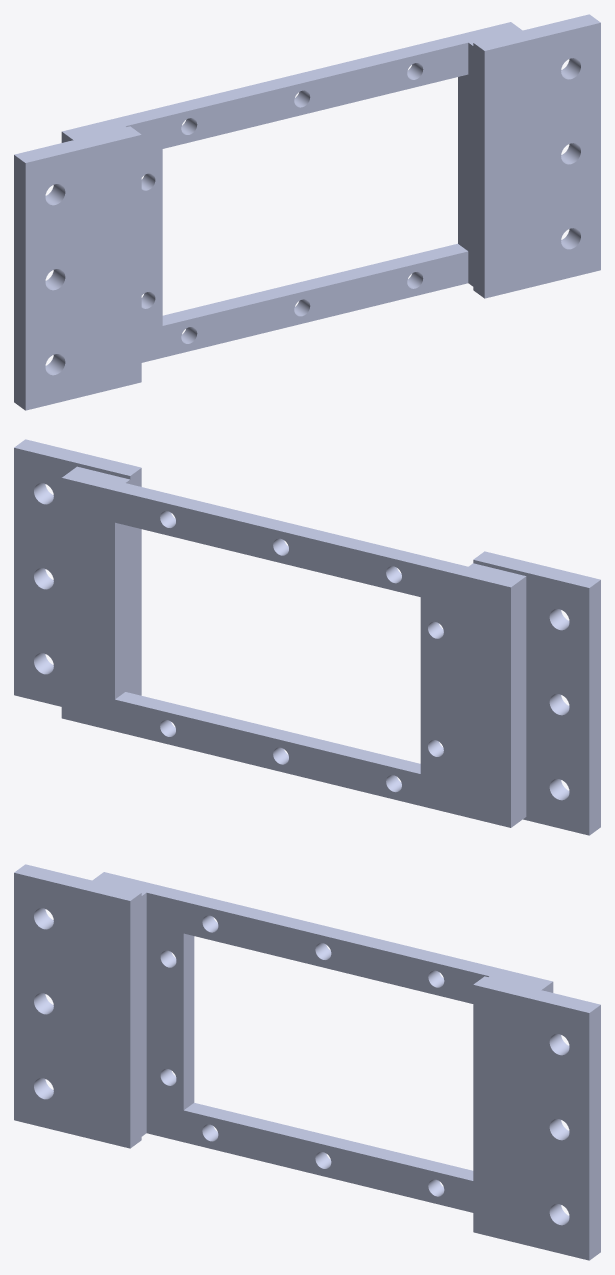
Rendered from c_3_robot_export_clean__rx28_mount_1.dae.
3 views of the same model, one above another, from view 1: azimuth 30°, elevation 25°; view 2: azimuth 150°, elevation 25°; view 3: azimuth 330°, elevation 25° (orthographic).
Visible parts, largest first — view 1: node0; view 2: node0; view 3: node0.
Boxes of the visible parts, box(x1,y1,x2,y2) form: node0: box(14, 14, 600, 410); node0: box(14, 439, 600, 835); node0: box(14, 864, 600, 1260).
Bounding box in the file's own units: 0.0866 × 0.0356 × 0.007.
